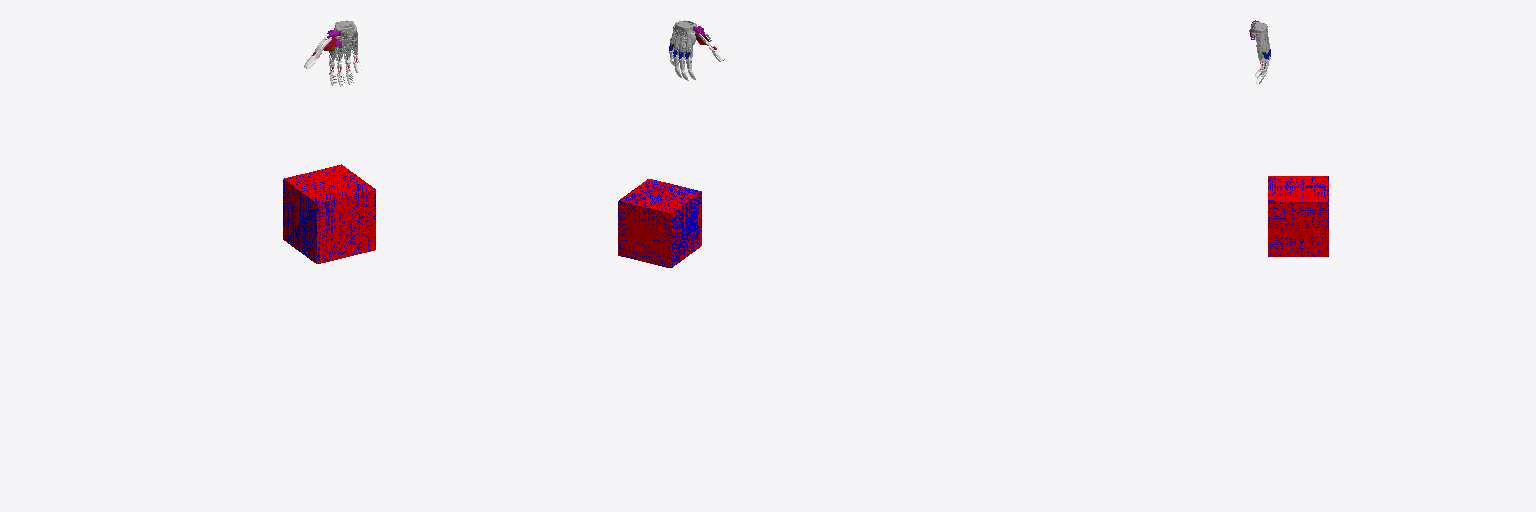
--- What the picture shows (computed from the rendered views, not written in the file) ---
Views: 3 orthographic renders of the robot side by side, from view 1: azimuth 30°, elevation 25°; view 2: azimuth 150°, elevation 25°; view 3: azimuth 270°, elevation 25°.
Robot: covvi_hand_right — 87 links, 86 joints (32 revolute, 54 fixed); root link __base_link; default pose: joints at zero except 8 at the middle of their limits (, +8 more).
Links seen in each view (by area): view 1: __base_link, _base_link, base_link; view 2: __base_link, _base_link, base_link; view 3: __base_link, _base_link.
Boxes of the visible links, <box> form: __base_link: <box>283,164,375,263</box>; _base_link: <box>283,165,375,263</box>; base_link: <box>330,20,357,59</box>; __base_link: <box>618,179,701,267</box>; _base_link: <box>618,179,701,267</box>; base_link: <box>670,20,696,60</box>; __base_link: <box>1268,176,1328,256</box>; _base_link: <box>1268,176,1328,256</box>.
Bounding box of the posed robot: 7.63 × 2.4 × 8.02 m (x, y, z).
27 mesh visuals loaded from 27 distinct referenced files (27 binary STL).

robot.urdf — covvi_hand_right:
<?xml version="1.0" encoding="utf-8"?>
<robot name="covvi_hand_right">

    <link name="__base_link">
        <visual>
            <origin xyz="0 0 0" rpy="0 0 0"/>
            <geometry><box size="1 1 1"/></geometry>
            <material name="r48384"><color rgba="1 0 0 0"/></material>
        </visual>
        <inertial>
            <mass value="1"/>
            <inertia ixx="1.0" ixy="0.0" ixz="0.0" iyy="1.0" iyz="0.0" izz="1.0"/>
        </inertial>
    </link>

    <link name="_base_link">
        <visual>
            <origin xyz="0 0 0" rpy="0 0 0"/>
            <geometry><box size="1 1 1"/></geometry>
            <material name="r81841"><color rgba="0 0 1 0"/></material>
        </visual>
        <inertial>
            <mass value="1"/>
            <inertia ixx="1.0" ixy="0.0" ixz="0.0" iyy="1.0" iyz="0.0" izz="1.0"/>
        </inertial>
    </link>

    <joint name="__joint_base_link" type="fixed">
        <origin xyz="0 0 0" rpy="1.5707963267948966 3.141592653589793 0.0"/>
        <parent link="__base_link"/>
        <child link="_base_link"/>
        <axis xyz="0 0 1"/>
    </joint>

    <link name="base_link">
        <visual>
            <origin xyz="0.0 0.0 0.0" rpy="0 0 0"/>
            <geometry><mesh filename="package://hand_pack/urdf/linear_meshes/right_base_link.STL" scale="0.00625 0.00625 0.00625"/></geometry>
            <material name=""><color rgba="0.7 0.7 0.7 1.0"/></material>
        </visual>
        <inertial>
            <mass value="0"/>
            <inertia ixx="0.0" ixy="0.0" ixz="0.0" iyy="0.0" iyz="0.0" izz="0.0"/>
        </inertial>
    </link>

    <joint name="_joint_base_link" type="fixed">
        <origin xyz="0.10717067867517471 -3.3973965644836426 0.6303038001060486" rpy="0 0 0"/>
        <parent link="_base_link"/>
        <child link="base_link"/>
        <axis xyz="0 0 1"/>
    </joint>

        <link name="Thumb_driver_link">
        <visual>
            <origin xyz="0 0 0" rpy="0 0 0"/>
            <geometry><box size="0 0 0"/></geometry>
            <material name="r37082"><color rgba="0 0 0 0"/></material>
        </visual>
        <inertial>
            <mass value="1"/>
            <inertia ixx="1.0" ixy="0.0" ixz="0.0" iyy="1.0" iyz="0.0" izz="1.0"/>
        </inertial>
    </link>
    <joint name="Thumb" type="revolute">
        <origin xyz="0 0 0"/><parent link="base_link"/><child link="Thumb_driver_link"/><axis xyz="0 0 1"/>
        <limit lower="0.00000000000000000000" upper="1.00000000000000000000" effort="0" velocity="0"/>
    </joint>
    <link name="Index_driver_link">
        <visual>
            <origin xyz="0 0 0" rpy="0 0 0"/>
            <geometry><box size="0 0 0"/></geometry>
            <material name="r47461"><color rgba="0 0 0 0"/></material>
        </visual>
        <inertial>
            <mass value="1"/>
            <inertia ixx="1.0" ixy="0.0" ixz="0.0" iyy="1.0" iyz="0.0" izz="1.0"/>
        </inertial>
    </link>
    <joint name="Index" type="revolute">
        <origin xyz="0 0 0"/><parent link="base_link"/><child link="Index_driver_link"/><axis xyz="0 0 1"/>
        <limit lower="0.00000000000000000000" upper="1.00000000000000000000" effort="0" velocity="0"/>
    </joint>
    <link name="Middle_driver_link">
        <visual>
            <origin xyz="0 0 0" rpy="0 0 0"/>
            <geometry><box size="0 0 0"/></geometry>
            <material name="r7722"><color rgba="0 0 0 0"/></material>
        </visual>
        <inertial>
            <mass value="1"/>
            <inertia ixx="1.0" ixy="0.0" ixz="0.0" iyy="1.0" iyz="0.0" izz="1.0"/>
        </inertial>
    </link>
    <joint name="Middle" type="revolute">
        <origin xyz="0 0 0"/><parent link="base_link"/><child link="Middle_driver_link"/><axis xyz="0 0 1"/>
        <limit lower="0.00000000000000000000" upper="1.00000000000000000000" effort="0" velocity="0"/>
    </joint>
    <link name="Ring_driver_link">
        <visual>
            <origin xyz="0 0 0" rpy="0 0 0"/>
            <geometry><box size="0 0 0"/></geometry>
            <material name="r66101"><color rgba="0 0 0 0"/></material>
        </visual>
        <inertial>
            <mass value="1"/>
            <inertia ixx="1.0" ixy="0.0" ixz="0.0" iyy="1.0" iyz="0.0" izz="1.0"/>
        </inertial>
    </link>
    <joint name="Ring" type="revolute">
        <origin xyz="0 0 0"/><parent link="base_link"/><child link="Ring_driver_link"/><axis xyz="0 0 1"/>
        <limit lower="0.00000000000000000000" upper="1.00000000000000000000" effort="0" velocity="0"/>
    </joint>
    <link name="Little_driver_link">
        <visual>
            <origin xyz="0 0 0" rpy="0 0 0"/>
            <geometry><box size="0 0 0"/></geometry>
            <material name="r58325"><color rgba="0 0 0 0"/></material>
        </visual>
        <inertial>
            <mass value="1"/>
            <inertia ixx="1.0" ixy="0.0" ixz="0.0" iyy="1.0" iyz="0.0" izz="1.0"/>
        </inertial>
    </link>
    <joint name="Little" type="revolute">
        <origin xyz="0 0 0"/><parent link="base_link"/><child link="Little_driver_link"/><axis xyz="0 0 1"/>
        <limit lower="0.00000000000000000000" upper="1.00000000000000000000" effort="0" velocity="0"/>
    </joint>
    <link name="Rotate_driver_link">
        <visual>
            <origin xyz="0 0 0" rpy="0 0 0"/>
            <geometry><box size="0 0 0"/></geometry>
            <material name="r13443"><color rgba="0 0 0 0"/></material>
        </visual>
        <inertial>
            <mass value="1"/>
            <inertia ixx="1.0" ixy="0.0" ixz="0.0" iyy="1.0" iyz="0.0" izz="1.0"/>
        </inertial>
    </link>
    <joint name="Rotate" type="revolute">
        <origin xyz="0 0 0"/><parent link="base_link"/><child link="Rotate_driver_link"/><axis xyz="0 0 1"/>
        <limit lower="0.00000000000000000000" upper="1.00000000000000000000" effort="0" velocity="0"/>
    </joint>

        <link name="lisa">
        <visual>
            <origin xyz="0.0 0.0 0.0" rpy="0 0 0"/>
            <geometry><mesh filename="package://hand_pack/urdf/linear_meshes/right_lisa.STL" scale="0.00625 0.00625 0.00625"/></geometry>
            <material name=""><color rgba="0.7 0.7 0.1 1.0"/></material>
        </visual>
        <inertial>
            <mass value="0"/>
            <inertia ixx="0.0" ixy="0.0" ixz="0.0" iyy="0.0" iyz="0.0" izz="0.0"/>
        </inertial>
    </link>
        <link name="_lisa_l0">
        <visual>
            <origin xyz="0 0 0" rpy="0 0 0"/>
            <geometry><box size="0 0 0"/></geometry>
            <material name=""><color rgba="0 0 0 0"/></material>
        </visual>
        <inertial>
            <mass value="0"/>
            <inertia ixx="0.0" ixy="0.0" ixz="0.0" iyy="0.0" iyz="0.0" izz="0.0"/>
        </inertial>
    </link>

    <joint name="_lisa_j_input_joint" type="fixed">
        <origin xyz="0.6649580028042494 1.243265013263121 0.7747941474098129" rpy="-0.00000001490116097180 0 0"/>
        <parent link="base_link"/>
        <axis xyz="8.166136313026937e-09 0.9999999999999999 1.300658039224663e-08"/>
        <child link="_lisa_l0"/>
    </joint>

    
    <link name="_lisa_l1">
        <visual>
            <origin xyz="0 0 -0.00000000000000000000" rpy="0 0 -0.00000001490116097180"/>
            <geometry><box size="0 0 0"/></geometry>
            <material name="r48572"><color rgba="0 0 0 0"/></material>
        </visual>
        <inertial>
            <mass value="1"/>
            <inertia ixx="1.0" ixy="0.0" ixz="0.0" iyy="1.0" iyz="0.0" izz="1.0"/>
        </inertial>
    </link>
    <joint name="_lisa_j01" type="revolute">
        <origin xyz="0 0 0.00000000000000000000" rpy="0 0 0"/>
        <parent link="_lisa_l0"/>
        <child link="_lisa_l1"/>
        <axis xyz="8.166136313026937e-09 0.9999999999999999 1.300658039224663e-08"/>
        <mimic joint="Rotate" multiplier="1.07337741974876732520" offset="0.00000001490116097180"/>
        <limit lower="0.00000001490116097180" upper="1.07337743464992829701" effort="0" velocity="0"/>
    </joint>


    <joint name="_lisa_j_lisa" type="fixed">
        <origin xyz="-0.6649580028042494 -1.243265013263121 -0.7747941474098129" rpy="-0.00000001490116097180 0 0"/>
        <parent link="_lisa_l1"/>
        <child link="lisa"/>
    </joint>
    <link name="thumb_chassis">
        <visual>
            <origin xyz="0.0 0.0 0.0" rpy="0 0 0"/>
            <geometry><mesh filename="package://hand_pack/urdf/linear_meshes/right_thumb_chassis.STL" scale="0.00625 0.00625 0.00625"/></geometry>
            <material name=""><color rgba="0.7 0.1 0.7 1.0"/></material>
        </visual>
        <inertial>
            <mass value="0"/>
            <inertia ixx="0.0" ixy="0.0" ixz="0.0" iyy="0.0" iyz="0.0" izz="0.0"/>
        </inertial>
    </link>
        <link name="_thumb_chassis_l0">
        <visual>
            <origin xyz="0 0 0" rpy="0 0 0"/>
            <geometry><box size="0 0 0"/></geometry>
            <material name=""><color rgba="0 0 0 0"/></material>
        </visual>
        <inertial>
            <mass value="0"/>
            <inertia ixx="0.0" ixy="0.0" ixz="0.0" iyy="0.0" iyz="0.0" izz="0.0"/>
        </inertial>
    </link>

    <joint name="_thumb_chassis_j_input_joint" type="fixed">
        <origin xyz="1.514903298568658 1.432445559291959 0.7844313794953435" rpy="-0.00000002107342389479 0 0"/>
        <parent link="base_link"/>
        <axis xyz="-1.0039121702977482e-08 -0.9999999999999999 1.8777992879094288e-08"/>
        <child link="_thumb_chassis_l0"/>
    </joint>

    
    <link name="_thumb_chassis_l1">
        <visual>
            <origin xyz="0 0 -0.00000000000000000000" rpy="0 0 -0.00000002107342389479"/>
            <geometry><box size="0 0 0"/></geometry>
            <material name="r29002"><color rgba="0 0 0 0"/></material>
        </visual>
        <inertial>
            <mass value="1"/>
            <inertia ixx="1.0" ixy="0.0" ixz="0.0" iyy="1.0" iyz="0.0" izz="1.0"/>
        </inertial>
    </link>
    <joint name="_thumb_chassis_j01" type="revolute">
        <origin xyz="0 0 0.00000000000000000000" rpy="0 0 0"/>
        <parent link="_thumb_chassis_l0"/>
        <child link="_thumb_chassis_l1"/>
        <axis xyz="-1.0039121702977482e-08 -0.9999999999999999 1.8777992879094288e-08"/>
        <mimic joint="Rotate" multiplier="1.53339618284689227501" offset="0.00000002107342389479"/>
        <limit lower="0.00000002107342389479" upper="1.53339620392031616980" effort="0" velocity="0"/>
    </joint>


    <joint name="_thumb_chassis_j_thumb_chassis" type="fixed">
        <origin xyz="-1.514903298568658 -1.432445559291959 -0.7844313794953435" rpy="-0.00000002107342389479 0 0"/>
        <parent link="_thumb_chassis_l1"/>
        <child link="thumb_chassis"/>
    </joint>
    <link name="thumb_proximal">
        <visual>
            <origin xyz="0.0 0.0 0.0" rpy="0 0 0"/>
            <geometry><mesh filename="package://hand_pack/urdf/linear_meshes/right_thumb_proximal.STL" scale="0.00625 0.00625 0.00625"/></geometry>
            <material name=""><color rgba="1.0 1.0 1.0 1.0"/></material>
        </visual>
        <inertial>
            <mass value="0"/>
            <inertia ixx="0.0" ixy="0.0" ixz="0.0" iyy="0.0" iyz="0.0" izz="0.0"/>
        </inertial>
    </link>
        <link name="_thumb_proximal_l0">
        <visual>
            <origin xyz="0 0 0" rpy="0 0 0"/>
            <geometry><box size="0 0 0"/></geometry>
            <material name=""><color rgba="0 0 0 0"/></material>
        </visual>
        <inertial>
            <mass value="0"/>
            <inertia ixx="0.0" ixy="0.0" ixz="0.0" iyy="0.0" iyz="0.0" izz="0.0"/>
        </inertial>
    </link>

    <joint name="_thumb_proximal_j_input_joint" type="fixed">
        <origin xyz="2.8720356292446443 1.353914565668949 0.6504721331635288" rpy="0.00000000000000016653 0 0"/>
        <parent link="thumb_chassis"/>
        <axis xyz="0.14866818156281958 -0.1305261869683429 0.9802350158540093"/>
        <child link="_thumb_proximal_l0"/>
    </joint>

    
    <link name="_thumb_proximal_l1">
        <visual>
            <origin xyz="0 0 -0.00000000000000000000" rpy="0 0 0.00000000000000016653"/>
            <geometry><box size="0 0 0"/></geometry>
            <material name="r67118"><color rgba="0 0 0 0"/></material>
        </visual>
        <inertial>
            <mass value="1"/>
            <inertia ixx="1.0" ixy="0.0" ixz="0.0" iyy="1.0" iyz="0.0" izz="1.0"/>
        </inertial>
    </link>
    <joint name="_thumb_proximal_j01" type="revolute">
        <origin xyz="0 0 0.00000000000000000000" rpy="0 0 0"/>
        <parent link="_thumb_proximal_l0"/>
        <child link="_thumb_proximal_l1"/>
        <axis xyz="0.14866818156281958 -0.1305261869683429 0.9802350158540093"/>
        <mimic joint="Thumb" multiplier="0.72022188617106031039" offset="-0.00000000000000016653"/>
        <limit lower="-0.00000000000000016653" upper="0.72022188617106019937" effort="0" velocity="0"/>
    </joint>


    <joint name="_thumb_proximal_j_thumb_proximal" type="fixed">
        <origin xyz="-2.8720356292446443 -1.353914565668949 -0.6504721331635288" rpy="0.00000000000000016653 0 0"/>
        <parent link="_thumb_proximal_l1"/>
        <child link="thumb_proximal"/>
    </joint>
    <link name="thumb_distal">
        <visual>
            <origin xyz="0.0 0.0 0.0" rpy="0 0 0"/>
            <geometry><mesh filename="package://hand_pack/urdf/linear_meshes/right_thumb_distal.STL" scale="0.00625 0.00625 0.00625"/></geometry>
            <material name=""><color rgba="1.0 1.0 1.0 1.0"/></material>
        </visual>
        <inertial>
            <mass value="0"/>
            <inertia ixx="0.0" ixy="0.0" ixz="0.0" iyy="0.0" iyz="0.0" izz="0.0"/>
        </inertial>
    </link>
        <link name="_thumb_distal_l0">
        <visual>
            <origin xyz="0 0 0" rpy="0 0 0"/>
            <geometry><box size="0 0 0"/></geometry>
            <material name=""><color rgba="0 0 0 0"/></material>
        </visual>
        <inertial>
            <mass value="0"/>
            <inertia ixx="0.0" ixy="0.0" ixz="0.0" iyy="0.0" iyz="0.0" izz="0.0"/>
        </inertial>
    </link>

    <joint name="_thumb_distal_j_input_joint" type="fixed">
        <origin xyz="5.380329672338689 4.204299673061814 0.6377162617521437" rpy="0.00000000000000033307 0 0"/>
        <parent link="thumb_proximal"/>
        <axis xyz="0.1486681537240236 -0.13052619107234176 0.9802350195297231"/>
        <child link="_thumb_distal_l0"/>
    </joint>

    
    <link name="_thumb_distal_l1">
        <visual>
            <origin xyz="0 0 -0.00000000000000000000" rpy="0 0 0.00000000000000033307"/>
            <geometry><box size="0 0 0"/></geometry>
            <material name="r72482"><color rgba="0 0 0 0"/></material>
        </visual>
        <inertial>
            <mass value="1"/>
            <inertia ixx="1.0" ixy="0.0" ixz="0.0" iyy="1.0" iyz="0.0" izz="1.0"/>
        </inertial>
    </link>
    <joint name="_thumb_distal_j01" type="revolute">
        <origin xyz="0 0 0.00000000000000000000" rpy="0 0 0"/>
        <parent link="_thumb_distal_l0"/>
        <child link="_thumb_distal_l1"/>
        <axis xyz="0.1486681537240236 -0.13052619107234176 0.9802350195297231"/>
        <mimic joint="Thumb" multiplier="1.06686018440504470917" offset="-0.00000000000000033307"/>
        <limit lower="-0.00000000000000033307" upper="1.06686018440504426508" effort="0" velocity="0"/>
    </joint>


    <joint name="_thumb_distal_j_thumb_distal" type="fixed">
        <origin xyz="-5.380329672338689 -4.204299673061814 -0.6377162617521437" rpy="0.00000000000000033307 0 0"/>
        <parent link="_thumb_distal_l1"/>
        <child link="thumb_distal"/>
    </joint>
    <link name="thumb_link">
        <visual>
            <origin xyz="0.0 0.0 0.0" rpy="0 0 0"/>
            <geometry><mesh filename="package://hand_pack/urdf/linear_meshes/right_thumb_link.STL" scale="0.00625 0.00625 0.00625"/></geometry>
            <material name=""><color rgba="0.7 0.1 0.1 1.0"/></material>
        </visual>
        <inertial>
            <mass value="0"/>
            <inertia ixx="0.0" ixy="0.0" ixz="0.0" iyy="0.0" iyz="0.0" izz="0.0"/>
        </inertial>
    </link>
        <link name="_thumb_link_l0">
        <visual>
            <origin xyz="0 0 0" rpy="0 0 0"/>
            <geometry><box size="0 0 0"/></geometry>
            <material name=""><color rgba="0 0 0 0"/></material>
        </visual>
        <inertial>
            <mass value="0"/>
            <inertia ixx="0.0" ixy="0.0" ixz="0.0" iyy="0.0" iyz="0.0" izz="0.0"/>
        </inertial>
    </link>

    <joint name="_thumb_link_j_input_joint" type="fixed">
        <origin xyz="2.3175473087185097 1.6154584748791998 0.7720019170415124" rpy="0.00000000000000016653 0 0"/>
        <parent link="thumb_chassis"/>
        <axis xyz="0.1486681500676118 -0.1305261887766519 0.9802350203899655"/>
        <child link="_thumb_link_l0"/>
    </joint>

    
    <link name="_thumb_link_l1">
        <visual>
            <origin xyz="0 0 -0.00000000000000000000" rpy="0 0 0.00000000000000016653"/>
            <geometry><box size="0 0 0"/></geometry>
            <material name="r43178"><color rgba="0 0 0 0"/></material>
        </visual>
        <inertial>
            <mass value="1"/>
            <inertia ixx="1.0" ixy="0.0" ixz="0.0" iyy="1.0" iyz="0.0" izz="1.0"/>
        </inertial>
    </link>
    <joint name="_thumb_link_j01" type="revolute">
        <origin xyz="0 0 0.00000000000000000000" rpy="0 0 0"/>
        <parent link="_thumb_link_l0"/>
        <child link="_thumb_link_l1"/>
        <axis xyz="0.1486681500676118 -0.1305261887766519 0.9802350203899655"/>
        <mimic joint="Thumb" multiplier="0.76799454671461719890" offset="-0.00000000000000016653"/>
        <limit lower="-0.00000000000000016653" upper="0.76799454671461697686" effort="0" velocity="0"/>
    </joint>


    <joint name="_thumb_link_j_thumb_link" type="fixed">
        <origin xyz="-2.3175473087185097 -1.6154584748791998 -0.7720019170415124" rpy="0.00000000000000016653 0 0"/>
        <parent link="_thumb_link_l1"/>
        <child link="thumb_link"/>
    </joint>
    <link name="thumb_follower">
        <visual>
            <origin xyz="0.0 0.0 0.0" rpy="0 0 0"/>
            <geometry><mesh filename="package://hand_pack/urdf/linear_meshes/right_thumb_follower.STL" scale="0.00625 0.00625 0.00625"/></geometry>
            <material name=""><color rgba="0.1 0.7 0.1 1.0"/></material>
        </visual>
        <inertial>
            <mass value="0"/>
            <inertia ixx="0.0" ixy="0.0" ixz="0.0" iyy="0.0" iyz="0.0" izz="0.0"/>
        </inertial>
    </link>
        <link name="_thumb_follower_l0">
        <visual>
            <origin xyz="0 0 0" rpy="0 0 0"/>
            <geometry><box size="0 0 0"/></geometry>
            <material name=""><color rgba="0 0 0 0"/></material>
        </visual>
        <inertial>
            <mass value="0"/>
            <inertia ixx="0.0" ixy="0.0" ixz="0.0" iyy="0.0" iyz="0.0" izz="0.0"/>
        </inertial>
    </link>

    <joint name="_thumb_follower_j_input_joint" type="fixed">
        <origin xyz="2.720835809921482 2.848104079083896 0.8664653479863773" rpy="0.00000000000000022204 0 0"/>
        <parent link="thumb_link"/>
        <axis xyz="-0.1486655629842887 0.13052549101972807 -0.9802355056702565"/>
        <child link="_thumb_follower_l0"/>
    </joint>

    
    <link name="_thumb_follower_l1">
        <visual>
            <origin xyz="0 0 -0.00000000000000000000" rpy="0 0 0.00000000000000022204"/>
            <geometry><box size="0 0 0"/></geometry>
            <material name="r80207"><color rgba="0 0 0 0"/></material>
        </visual>
        <inertial>
            <mass value="1"/>
            <inertia ixx="1.0" ixy="0.0" ixz="0.0" iyy="1.0" iyz="0.0" izz="1.0"/>
        </inertial>
    </link>
    <joint name="_thumb_follower_j01" type="revolute">
        <origin xyz="0 0 0.00000000000000000000" rpy="0 0 0"/>
        <parent link="_thumb_follower_l0"/>
        <child link="_thumb_follower_l1"/>
        <axis xyz="-0.1486655629842887 0.13052549101972807 -0.9802355056702565"/>
        <mimic joint="Thumb" multiplier="0.93732763826281451092" offset="-0.00000000000000022204"/>
        <limit lower="-0.00000000000000022204" upper="0.93732763826281428887" effort="0" velocity="0"/>
    </joint>


    <joint name="_thumb_follower_j_thumb_follower" type="fixed">
        <origin xyz="-2.720835809921482 -2.848104079083896 -0.8664653479863773" rpy="0.00000000000000022204 0 0"/>
        <parent link="_thumb_follower_l1"/>
        <child link="thumb_follower"/>
    </joint>
    <link name="index_proximal">
        <visual>
            <origin xyz="0.0 0.0 0.0" rpy="0 0 0"/>
            <geometry><mesh filename="package://hand_pack/urdf/linear_meshes/right_index_proximal.STL" scale="0.00625 0.00625 0.00625"/></geometry>
            <material name=""><color rgba="1.0 1.0 1.0 1.0"/></material>
        </visual>
        <inertial>
            <mass value="0"/>
            <inertia ixx="0.0" ixy="0.0" ixz="0.0" iyy="0.0" iyz="0.0" izz="0.0"/>
        </inertial>
    </link>
        <link name="_index_proximal_l0">
        <visual>
            <origin xyz="0 0 0" rpy="0 0 0"/>
            <geometry><box size="0 0 0"/></geometry>
            <material name=""><color rgba="0 0 0 0"/></material>
        </visual>
        <inertial>
            <mass value="0"/>
            <inertia ixx="0.0" ixy="0.0" ixz="0.0" iyy="0.0" iyz="0.0" izz="0.0"/>
        </inertial>
    </link>

    <joint name="_index_proximal_j_input_joint" type="fixed">
        <origin xyz="1.4438636714684971 5.709859526571508 -0.9223736237943079" rpy="-0.00000001490116086078 0 0"/>
        <parent link="base_link"/>
        <axis xyz="0.9935814517046622 -0.052307286750173175 -0.10029878653947531"/>
        <child link="_index_proximal_l0"/>
    </joint>

    
    <link name="_index_proximal_l1">
        <visual>
            <origin xyz="0 0 -0.00000000000000000000" rpy="0 0 -0.00000001490116086078"/>
            <geometry><box size="0 0 0"/></geometry>
            <material name="r69401"><color rgba="0 0 0 0"/></material>
        </visual>
        <inertial>
            <mass value="1"/>
            <inertia ixx="1.0" ixy="0.0" ixz="0.0" iyy="1.0" iyz="0.0" izz="1.0"/>
        </inertial>
    </link>
    <joint name="_index_proximal_j01" type="revolute">
        <origin xyz="0 0 0.00000000000000000000" rpy="0 0 0"/>
        <parent link="_index_proximal_l0"/>
        <child link="_index_proximal_l1"/>
        <axis xyz="0.9935814517046622 -0.052307286750173175 -0.10029878653947531"/>
        <mimic joint="Index" multiplier="1.51604339913513674887" offset="0.00000001490116086078"/>
        <limit lower="0.00000001490116086078" upper="1.51604341403629772067" effort="0" velocity="0"/>
    </joint>


    <joint name="_index_proximal_j_index_proximal" type="fixed">
        <origin xyz="-1.4438636714684971 -5.709859526571508 0.9223736237943079" rpy="-0.00000001490116086078 0 0"/>
        <parent link="_index_proximal_l1"/>
        <child link="index_proximal"/>
    </joint>
    <link name="index_distal">
        <visual>
            <origin xyz="0.0 0.0 0.0" rpy="0 0 0"/>
            <geometry><mesh filename="package://hand_pack/urdf/linear_meshes/right_index_distal.STL" scale="0.00625 0.00625 0.00625"/></geometry>
            <material name=""><color rgba="1.0 1.0 1.0 1.0"/></material>
        </visual>
        <inertial>
            <mass value="0"/>
            <inertia ixx="0.0" ixy="0.0" ixz="0.0" iyy="0.0" iyz="0.0" izz="0.0"/>
        </inertial>
    </link>
        <link name="_index_distal_l0">
        <visual>
            <origin xyz="0 0 0" rpy="0 0 0"/>
            <geometry><box size="0 0 0"/></geometry>
            <material name=""><color rgba="0 0 0 0"/></material>
        </visual>
        <inertial>
            <mass value="0"/>
            <inertia ixx="0.0" ixy="0.0" ixz="0.0" iyy="0.0" iyz="0.0" izz="0.0"/>
        </inertial>
    </link>

    <joint name="_index_distal_j_input_joint" type="fixed">
        <origin xyz="1.5070534999285634 7.578488986309617 -1.0647940483682832" rpy="-0.00000002107342395030 0 0"/>
        <parent link="index_proximal"/>
        <axis xyz="0.9935814496116296 -0.0523072979212324 -0.10029880144763517"/>
        <child link="_index_distal_l0"/>
    </joint>

    
    <link name="_index_distal_l1">
        <visual>
            <origin xyz="0 0 -0.00000000000000000000" rpy="0 0 -0.00000002107342395030"/>
            <geometry><box size="0 0 0"/></geometry>
            <material name="r61005"><color rgba="0 0 0 0"/></material>
        </visual>
        <inertial>
            <mass value="1"/>
            <inertia ixx="1.0" ixy="0.0" ixz="0.0" iyy="1.0" iyz="0.0" izz="1.0"/>
        </inertial>
    </link>
    <joint name="_index_distal_j01" type="revolute">
        <origin xyz="0 0 0.00000000000000000000" rpy="0 0 0"/>
        <parent link="_index_distal_l0"/>
        <child link="_index_distal_l1"/>
        <axis xyz="0.9935814496116296 -0.0523072979212324 -0.10029880144763517"/>
        <mimic joint="Index" multiplier="1.33574108836935590006" offset="0.00000002107342395030"/>
        <limit lower="0.00000002107342395030" upper="1.33574110944277979485" effort="0" velocity="0"/>
    </joint>


    <joint name="_index_distal_j_index_distal" type="fixed">
        <origin xyz="-1.5070534999285634 -7.578488986309617 1.0647940483682832" rpy="-0.00000002107342395030 0 0"/>
        <parent link="_index_distal_l1"/>
        <child link="index_distal"/>
    </joint>
    <link name="index_knuckle">
        <visual>
            <origin xyz="0.0 0.0 0.0" rpy="0 0 0"/>
            <geometry><mesh filename="package://hand_pack/urdf/linear_meshes/right_index_knuckle.STL" scale="0.00625 0.00625 0.00625"/></geometry>
            <material name=""><color rgba="0.1 0.1 0.7 1.0"/></material>
        </visual>
        <inertial>
            <mass value="0"/>
            <inertia ixx="0.0" ixy="0.0" ixz="0.0" iyy="0.0" iyz="0.0" izz="0.0"/>
        </inertial>
    </link>
        <link name="_index_knuckle_l0">
        <visual>
            <origin xyz="0 0 0" rpy="0 0 0"/>
            <geometry><box size="0 0 0"/></geometry>
            <material name=""><color rgba="0 0 0 0"/></material>
        </visual>
        <inertial>
            <mass value="0"/>
            <inertia ixx="0.0" ixy="0.0" ixz="0.0" iyy="0.0" iyz="0.0" izz="0.0"/>
        </inertial>
    </link>

    <joint name="_index_knuckle_j_input_joint" type="fixed">
        <origin xyz="1.366060538694307 5.324288335618494 -1.4862338867796852" rpy="-0.00000002107342400581 0 0"/>
        <parent link="index_proximal"/>
        <axis xyz="-0.9935814514632575 0.05230723732964991 0.10029881470439378"/>
        <child link="_index_knuckle_l0"/>
    </joint>

    
    <link name="_index_knuckle_l1">
        <visual>
            <origin xyz="0 0 -0.00000000000000000000" rpy="0 0 -0.00000002107342400581"/>
            <geometry><box size="0 0 0"/></geometry>
            <material name="r79316"><color rgba="0 0 0 0"/></material>
        </visual>
        <inertial>
            <mass value="1"/>
            <inertia ixx="1.0" ixy="0.0" ixz="0.0" iyy="1.0" iyz="0.0" izz="1.0"/>
        </inertial>
    </link>
    <joint name="_index_knuckle_j01" type="revolute">
        <origin xyz="0 0 0.00000000000000000000" rpy="0 0 0"/>
        <parent link="_index_knuckle_l0"/>
        <child link="_index_knuckle_l1"/>
        <axis xyz="-0.9935814514632575 0.05230723732964991 0.10029881470439378"/>
        <mimic joint="Index" multiplier="1.25181519799450313712" offset="0.00000002107342400581"/>
        <limit lower="0.00000002107342400581" upper="1.25181521906792703192" effort="0" velocity="0"/>
    </joint>


    <joint name="_index_knuckle_j_index_knuckle" type="fixed">
        <origin xyz="-1.366060538694307 -5.324288335618494 1.4862338867796852" rpy="-0.00000002107342400581 0 0"/>
        <parent link="_index_knuckle_l1"/>
        <child link="index_knuckle"/>
    </joint>
    <link name="index_follower">
        <visual>
            <origin xyz="0.0 0.0 0.0" rpy="0 0 0"/>
            <geometry><mesh filename="package://hand_pack/urdf/linear_meshes/right_index_follower.STL" scale="0.00625 0.00625 0.00625"/></geometry>
            <material name=""><color rgba="0.1 0.7 0.1 1.0"/></material>
        </visual>
        <inertial>
            <mass value="0"/>
            <inertia ixx="0.0" ixy="0.0" ixz="0.0" iyy="0.0" iyz="0.0" izz="0.0"/>
        </inertial>
    </link>
        <link name="_index_follower_l0">
        <visual>
            <origin xyz="0 0 0" rpy="0 0 0"/>
            <geometry><box size="0 0 0"/></geometry>
            <material name=""><color rgba="0 0 0 0"/></material>
        </visual>
        <inertial>
            <mass value="0"/>
            <inertia ixx="0.0" ixy="0.0" ixz="0.0" iyy="0.0" iyz="0.0" izz="0.0"/>
        </inertial>
    </link>

    <joint name="_index_follower_j_input_joint" type="fixed">
        <origin xyz="1.3289578043144759 4.198973084070179 -1.3040394900270869" rpy="0.00000000000000005551 0 0"/>
        <parent link="index_knuckle"/>
        <axis xyz="-0.9935816391717812 0.05230592427414335 0.10029763998491735"/>
        <child link="_index_follower_l0"/>
    </joint>

    
    <link name="_index_follower_l1">
        <visual>
            <origin xyz="0 0 -0.00000000000000000000" rpy="0 0 0.00000000000000005551"/>
            <geometry><box size="0 0 0"/></geometry>
            <material name="r82929"><color rgba="0 0 0 0"/></material>
        </visual>
        <inertial>
            <mass value="1"/>
            <inertia ixx="1.0" ixy="0.0" ixz="0.0" iyy="1.0" iyz="0.0" izz="1.0"/>
        </inertial>
    </link>
    <joint name="_index_follower_j01" type="revolute">
        <origin xyz="0 0 0.00000000000000000000" rpy="0 0 0"/>
        <parent link="_index_follower_l0"/>
        <child link="_index_follower_l1"/>
        <axis xyz="-0.9935816391717812 0.05230592427414335 0.10029763998491735"/>
        <mimic joint="Index" multiplier="0.26422627443923907276" offset="-0.00000000000000005551"/>
        <limit lower="-0.00000000000000005551" upper="0.26422627443923901724" effort="0" velocity="0"/>
    </joint>


    <joint name="_index_follower_j_index_follower" type="fixed">
        <origin xyz="-1.3289578043144759 -4.198973084070179 1.3040394900270869" rpy="0.00000000000000005551 0 0"/>
        <parent link="_index_follower_l1"/>
        <child link="index_follower"/>
    </joint>
    <link name="index_link">
        <visual>
            <origin xyz="0.0 0.0 0.0" rpy="0 0 0"/>
            <geometry><mesh filename="package://hand_pack/urdf/linear_meshes/right_index_link.STL" scale="0.00625 0.00625 0.00625"/></geometry>
            <material name=""><color rgba="0.7 0.1 0.1 1.0"/></material>
        </visual>
        <inertial>
            <mass value="0"/>
            <inertia ixx="0.0" ixy="0.0" ixz="0.0" iyy="0.0" iyz="0.0" izz="0.0"/>
        </inertial>
    </link>
        <link name="_index_link_l0">
        <visual>
            <origin xyz="0 0 0" rpy="0 0 0"/>
            <geometry><box size="0 0 0"/></geometry>
            <material name=""><color rgba="0 0 0 0"/></material>
        </visual>
        <inertial>
            <mass value="0"/>
            <inertia ixx="0.0" ixy="0.0" ixz="0.0" iyy="0.0" iyz="0.0" izz="0.0"/>
        </inertial>
    </link>

    <joint name="_index_link_j_input_joint" type="fixed">
        <origin xyz="1.3943596383310624 5.7976159675856795 -1.1863715383108244" rpy="0.00000000000000033307 0 0"/>
        <parent link="base_link"/>
        <axis xyz="0.9935814462116063 -0.05230730452290644 -0.10029883168612273"/>
        <child link="_index_link_l0"/>
    </joint>

    
    <link name="_index_link_l1">
        <visual>
            <origin xyz="0 0 -0.00000000000000000000" rpy="0 0 0.00000000000000033307"/>
            <geometry><box size="0 0 0"/></geometry>
            <material name="r18117"><color rgba="0 0 0 0"/></material>
        </visual>
        <inertial>
            <mass value="1"/>
            <inertia ixx="1.0" ixy="0.0" ixz="0.0" iyy="1.0" iyz="0.0" izz="1.0"/>
        </inertial>
    </link>
    <joint name="_index_link_j01" type="revolute">
        <origin xyz="0 0 0.00000000000000000000" rpy="0 0 0"/>
        <parent link="_index_link_l0"/>
        <child link="_index_link_l1"/>
        <axis xyz="0.9935814462116063 -0.05230730452290644 -0.10029883168612273"/>
        <mimic joint="Index" multiplier="1.33574038782547521720" offset="-0.00000000000000033307"/>
        <limit lower="-0.00000000000000033307" upper="1.33574038782547499515" effort="0" velocity="0"/>
    </joint>


    <joint name="_index_link_j_index_link" type="fixed">
        <origin xyz="-1.3943596383310624 -5.7976159675856795 1.1863715383108244" rpy="0.00000000000000033307 0 0"/>
        <parent link="_index_link_l1"/>
        <child link="index_link"/>
    </joint>
    <link name="middle_proximal">
        <visual>
            <origin xyz="0.0 0.0 0.0" rpy="0 0 0"/>
            <geometry><mesh filename="package://hand_pack/urdf/linear_meshes/right_middle_proximal.STL" scale="0.00625 0.00625 0.00625"/></geometry>
            <material name=""><color rgba="1.0 1.0 1.0 1.0"/></material>
        </visual>
        <inertial>
            <mass value="0"/>
            <inertia ixx="0.0" ixy="0.0" ixz="0.0" iyy="0.0" iyz="0.0" izz="0.0"/>
        </inertial>
    </link>
        <link name="_middle_proximal_l0">
        <visual>
            <origin xyz="0 0 0" rpy="0 0 0"/>
            <geometry><box size="0 0 0"/></geometry>
            <material name=""><color rgba="0 0 0 0"/></material>
        </visual>
        <inertial>
            <mass value="0"/>
            <inertia ixx="0.0" ixy="0.0" ixz="0.0" iyy="0.0" iyz="0.0" izz="0.0"/>
        </inertial>
    </link>

    <joint name="_middle_proximal_j_input_joint" type="fixed">
        <origin xyz="0.20973618604014632 5.898534205707262 -0.9712659363241443" rpy="0.00000000000000055511 0 0"/>
        <parent link="base_link"/>
        <axis xyz="0.9910685918607293 1.8063346067449371e-09 -0.13335308855512615"/>
        <child link="_middle_proximal_l0"/>
    </joint>

    
    <link name="_middle_proximal_l1">
        <visual>
            <origin xyz="0 0 -0.00000000000000000000" rpy="0 0 0.00000000000000055511"/>
            <geometry><box size="0 0 0"/></geometry>
            <material name="r35313"><color rgba="0 0 0 0"/></material>
        </visual>
        <inertial>
            <mass value="1"/>
            <inertia ixx="1.0" ixy="0.0" ixz="0.0" iyy="1.0" iyz="0.0" izz="1.0"/>
        </inertial>
    </link>
    <joint name="_middle_proximal_j01" type="revolute">
        <origin xyz="0 0 0.00000000000000000000" rpy="0 0 0"/>
        <parent link="_middle_proximal_l0"/>
        <child link="_middle_proximal_l1"/>
        <axis xyz="0.9910685918607293 1.8063346067449371e-09 -0.13335308855512615"/>
        <mimic joint="Middle" multiplier="1.51604368978713033300" offset="-0.00000000000000055511"/>
        <limit lower="-0.00000000000000055511" upper="1.51604368978712988891" effort="0" velocity="0"/>
    </joint>


    <joint name="_middle_proximal_j_middle_proximal" type="fixed">
        <origin xyz="-0.20973618604014632 -5.898534205707262 0.9712659363241443" rpy="0.00000000000000055511 0 0"/>
        <parent link="_middle_proximal_l1"/>
        <child link="middle_proximal"/>
    </joint>
    <link name="middle_distal">
        <visual>
            <origin xyz="0.0 0.0 0.0" rpy="0 0 0"/>
            <geometry><mesh filename="package://hand_pack/urdf/linear_meshes/right_middle_distal.STL" scale="0.00625 0.00625 0.00625"/></geometry>
            <material name=""><color rgba="1.0 1.0 1.0 1.0"/></material>
        </visual>
        <inertial>
            <mass value="0"/>
            <inertia ixx="0.0" ixy="0.0" ixz="0.0" iyy="0.0" iyz="0.0" izz="0.0"/>
        </inertial>
    </link>
        <link name="_middle_distal_l0">
        <visual>
            <origin xyz="0 0 0" rpy="0 0 0"/>
            <geometry><box size="0 0 0"/></geometry>
            <material name=""><color rgba="0 0 0 0"/></material>
        </visual>
        <inertial>
            <mass value="0"/>
            <inertia ixx="0.0" ixy="0.0" ixz="0.0" iyy="0.0" iyz="0.0" izz="0.0"/>
        </inertial>
    </link>

    <joint name="_middle_distal_j_input_joint" type="fixed">
        <origin xyz="0.19688874055412953 8.022176691106141 -1.0461525552984252" rpy="-0.00000002107342389479 0 0"/>
        <parent link="middle_proximal"/>
        <axis xyz="0.9910685909316314 -1.689482686870114e-09 -0.13335309546010102"/>
        <child link="_middle_distal_l0"/>
    </joint>

    
    <link name="_middle_distal_l1">
        <visual>
            <origin xyz="0 0 -0.00000000000000000000" rpy="0 0 -0.00000002107342389479"/>
            <geometry><box size="0 0 0"/></geometry>
            <material name="r17832"><color rgba="0 0 0 0"/></material>
        </visual>
        <inertial>
            <mass value="1"/>
            <inertia ixx="1.0" ixy="0.0" ixz="0.0" iyy="1.0" iyz="0.0" izz="1.0"/>
        </inertial>
    </link>
    <joint name="_middle_distal_j01" type="revolute">
        <origin xyz="0 0 0.00000000000000000000" rpy="0 0 0"/>
        <parent link="_middle_distal_l0"/>
        <child link="_middle_distal_l1"/>
        <axis xyz="0.9910685909316314 -1.689482686870114e-09 -0.13335309546010102"/>
        <mimic joint="Middle" multiplier="1.34986011532341310115" offset="0.00000002107342389479"/>
        <limit lower="0.00000002107342389479" upper="1.34986013639683699594" effort="0" velocity="0"/>
    </joint>


    <joint name="_middle_distal_j_middle_distal" type="fixed">
        <origin xyz="-0.19688874055412953 -8.022176691106141 1.0461525552984252" rpy="-0.00000002107342389479 0 0"/>
        <parent link="_middle_distal_l1"/>
        <child link="middle_distal"/>
    </joint>
    <link name="middle_knuckle">
        <visual>
            <origin xyz="0.0 0.0 0.0" rpy="0 0 0"/>
            <geometry><mesh filename="package://hand_pack/urdf/linear_meshes/right_middle_knuckle.STL" scale="0.00625 0.00625 0.00625"/></geometry>
            <material name=""><color rgba="0.1 0.1 0.7 1.0"/></material>
        </visual>
        <inertial>
            <mass value="0"/>
            <inertia ixx="0.0" ixy="0.0" ixz="0.0" iyy="0.0" iyz="0.0" izz="0.0"/>
        </inertial>
    </link>
        <link name="_middle_knuckle_l0">
        <visual>
            <origin xyz="0 0 0" rpy="0 0 0"/>
            <geometry><box size="0 0 0"/></geometry>
            <material name=""><color rgba="0 0 0 0"/></material>
        </visual>
        <inertial>
            <mass value="0"/>
            <inertia ixx="0.0" ixy="0.0" ixz="0.0" iyy="0.0" iyz="0.0" izz="0.0"/>
        </inertial>
    </link>

    <joint name="_middle_knuckle_j_input_joint" type="fixed">
        <origin xyz="0.1327026701136127 5.513391010636881 -1.535525341148929" rpy="0.00000000000000022204 0 0"/>
        <parent link="middle_proximal"/>
        <axis xyz="-0.9910685921320656 -5.1727278766516505e-09 0.13335308653857816"/>
        <child link="_middle_knuckle_l0"/>
    </joint>

    
    <link name="_middle_knuckle_l1">
        <visual>
            <origin xyz="0 0 -0.00000000000000000000" rpy="0 0 0.00000000000000022204"/>
            <geometry><box size="0 0 0"/></geometry>
            <material name="r26979"><color rgba="0 0 0 0"/></material>
        </visual>
        <inertial>
            <mass value="1"/>
            <inertia ixx="1.0" ixy="0.0" ixz="0.0" iyy="1.0" iyz="0.0" izz="1.0"/>
        </inertial>
    </link>
    <joint name="_middle_knuckle_j01" type="revolute">
        <origin xyz="0 0 0.00000000000000000000" rpy="0 0 0"/>
        <parent link="_middle_knuckle_l0"/>
        <child link="_middle_knuckle_l1"/>
        <axis xyz="-0.9910685921320656 -5.1727278766516505e-09 0.13335308653857816"/>
        <mimic joint="Middle" multiplier="1.25181499257524908586" offset="-0.00000000000000022204"/>
        <limit lower="-0.00000000000000022204" upper="1.25181499257524886382" effort="0" velocity="0"/>
    </joint>


    <joint name="_middle_knuckle_j_middle_knuckle" type="fixed">
        <origin xyz="-0.1327026701136127 -5.513391010636881 1.535525341148929" rpy="0.00000000000000022204 0 0"/>
        <parent link="_middle_knuckle_l1"/>
        <child link="middle_knuckle"/>
    </joint>
    <link name="middle_follower">
        <visual>
            <origin xyz="0.0 0.0 0.0" rpy="0 0 0"/>
            <geometry><mesh filename="package://hand_pack/urdf/linear_meshes/right_middle_follower.STL" scale="0.00625 0.00625 0.00625"/></geometry>
            <material name=""><color rgba="0.1 0.7 0.1 1.0"/></material>
        </visual>
        <inertial>
            <mass value="0"/>
            <inertia ixx="0.0" ixy="0.0" ixz="0.0" iyy="0.0" iyz="0.0" izz="0.0"/>
        </inertial>
    </link>
        <link name="_middle_follower_l0">
        <visual>
            <origin xyz="0 0 0" rpy="0 0 0"/>
            <geometry><box size="0 0 0"/></geometry>
            <material name=""><color rgba="0 0 0 0"/></material>
        </visual>
        <inertial>
            <mass value="0"/>
            <inertia ixx="0.0" ixy="0.0" ixz="0.0" iyy="0.0" iyz="0.0" izz="0.0"/>
        </inertial>
    </link>

    <joint name="_middle_follower_j_input_joint" type="fixed">
        <origin xyz="0.15980891875989833 4.386421938486642 -1.361995902128741" rpy="0.00000000000000005551 0 0"/>
        <parent link="middle_knuckle"/>
        <axis xyz="-0.9910686221283496 -3.493623730798563e-07 0.13335286360814524"/>
        <child link="_middle_follower_l0"/>
    </joint>

    
    <link name="_middle_follower_l1">
        <visual>
            <origin xyz="0 0 -0.00000000000000000000" rpy="0 0 0.00000000000000005551"/>
            <geometry><box size="0 0 0"/></geometry>
            <material name="r16493"><color rgba="0 0 0 0"/></material>
        </visual>
        <inertial>
            <mass value="1"/>
            <inertia ixx="1.0" ixy="0.0" ixz="0.0" iyy="1.0" iyz="0.0" izz="1.0"/>
        </inertial>
    </link>
    <joint name="_middle_follower_j01" type="revolute">
        <origin xyz="0 0 0.00000000000000000000" rpy="0 0 0"/>
        <parent link="_middle_follower_l0"/>
        <child link="_middle_follower_l1"/>
        <axis xyz="-0.9910686221283496 -3.493623730798563e-07 0.13335286360814524"/>
        <mimic joint="Middle" multiplier="0.26422641895880322194" offset="-0.00000000000000005551"/>
        <limit lower="-0.00000000000000005551" upper="0.26422641895880316643" effort="0" velocity="0"/>
    </joint>


    <joint name="_middle_follower_j_middle_follower" type="fixed">
        <origin xyz="-0.15980891875989833 -4.386421938486642 1.361995902128741" rpy="0.00000000000000005551 0 0"/>
        <parent link="_middle_follower_l1"/>
        <child link="middle_follower"/>
    </joint>
    <link name="middle_link">
        <visual>
            <origin xyz="0.0 0.0 0.0" rpy="0 0 0"/>
            <geometry><mesh filename="package://hand_pack/urdf/linear_meshes/right_middle_link.STL" scale="0.00625 0.00625 0.00625"/></geometry>
            <material name=""><color rgba="0.7 0.1 0.1 1.0"/></material>
        </visual>
        <inertial>
            <mass value="0"/>
            <inertia ixx="0.0" ixy="0.0" ixz="0.0" iyy="0.0" iyz="0.0" izz="0.0"/>
        </inertial>
    </link>
        <link name="_middle_link_l0">
        <visual>
            <origin xyz="0 0 0" rpy="0 0 0"/>
            <geometry><box size="0 0 0"/></geometry>
            <material name=""><color rgba="0 0 0 0"/></material>
        </visual>
        <inertial>
            <mass value="0"/>
            <inertia ixx="0.0" ixy="0.0" ixz="0.0" iyy="0.0" iyz="0.0" izz="0.0"/>
        </inertial>
    </link>

    <joint name="_middle_link_j_input_joint" type="fixed">
        <origin xyz="0.1485688418916027 5.985445071198181 -1.232930729247692" rpy="0.00000000000000027756 0 0"/>
        <parent link="base_link"/>
        <axis xyz="0.991068591048481 -2.638530424585682e-09 -0.13335309459168482"/>
        <child link="_middle_link_l0"/>
    </joint>

    
    <link name="_middle_link_l1">
        <visual>
            <origin xyz="0 0 -0.00000000000000000000" rpy="0 0 0.00000000000000027756"/>
            <geometry><box size="0 0 0"/></geometry>
            <material name="r5837"><color rgba="0 0 0 0"/></material>
        </visual>
        <inertial>
            <mass value="1"/>
            <inertia ixx="1.0" ixy="0.0" ixz="0.0" iyy="1.0" iyz="0.0" izz="1.0"/>
        </inertial>
    </link>
    <joint name="_middle_link_j01" type="revolute">
        <origin xyz="0 0 0.00000000000000000000" rpy="0 0 0"/>
        <parent link="_middle_link_l0"/>
        <child link="_middle_link_l1"/>
        <axis xyz="0.991068591048481 -2.638530424585682e-09 -0.13335309459168482"/>
        <mimic joint="Middle" multiplier="1.34986028913700661924" offset="-0.00000000000000027756"/>
        <limit lower="-0.00000000000000027756" upper="1.34986028913700639720" effort="0" velocity="0"/>
    </joint>


    <joint name="_middle_link_j_middle_link" type="fixed">
        <origin xyz="-0.1485688418916027 -5.985445071198181 1.232930729247692" rpy="0.00000000000000027756 0 0"/>
        <parent link="_middle_link_l1"/>
        <child link="middle_link"/>
    </joint>
    <link name="ring_proximal">
        <visual>
            <origin xyz="0.0 0.0 0.0" rpy="0 0 0"/>
            <geometry><mesh filename="package://hand_pack/urdf/linear_meshes/right_ring_proximal.STL" scale="0.00625 0.00625 0.00625"/></geometry>
            <material name=""><color rgba="1.0 1.0 1.0 1.0"/></material>
        </visual>
        <inertial>
            <mass value="0"/>
            <inertia ixx="0.0" ixy="0.0" ixz="0.0" iyy="0.0" iyz="0.0" izz="0.0"/>
        </inertial>
    </link>
        <link name="_ring_proximal_l0">
        <visual>
            <origin xyz="0 0 0" rpy="0 0 0"/>
            <geometry><box size="0 0 0"/></geometry>
            <material name=""><color rgba="0 0 0 0"/></material>
        </visual>
        <inertial>
            <mass value="0"/>
            <inertia ixx="0.0" ixy="0.0" ixz="0.0" iyy="0.0" iyz="0.0" izz="0.0"/>
        </inertial>
    </link>

    <joint name="_ring_proximal_j_input_joint" type="fixed">
        <origin xyz="-1.0126493534897856 5.898556410085637 -0.6806766424213684" rpy="0.00000000000000022204 0 0"/>
        <parent link="base_link"/>
        <axis xyz="0.9904648606189275 0.03489949479855251 -0.1332718467716812"/>
        <child link="_ring_proximal_l0"/>
    </joint>

    
    <link name="_ring_proximal_l1">
        <visual>
            <origin xyz="0 0 -0.00000000000000000000" rpy="0 0 0.00000000000000022204"/>
            <geometry><box size="0 0 0"/></geometry>
            <material name="r1173"><color rgba="0 0 0 0"/></material>
        </visual>
        <inertial>
            <mass value="1"/>
            <inertia ixx="1.0" ixy="0.0" ixz="0.0" iyy="1.0" iyz="0.0" izz="1.0"/>
        </inertial>
    </link>
    <joint name="_ring_proximal_j01" type="revolute">
        <origin xyz="0 0 0.00000000000000000000" rpy="0 0 0"/>
        <parent link="_ring_proximal_l0"/>
        <child link="_ring_proximal_l1"/>
        <axis xyz="0.9904648606189275 0.03489949479855251 -0.1332718467716812"/>
        <mimic joint="Ring" multiplier="1.51604328762193563129" offset="-0.00000000000000022204"/>
        <limit lower="-0.00000000000000022204" upper="1.51604328762193540925" effort="0" velocity="0"/>
    </joint>


    <joint name="_ring_proximal_j_ring_proximal" type="fixed">
        <origin xyz="1.0126493534897856 -5.898556410085637 0.6806766424213684" rpy="0.00000000000000022204 0 0"/>
        <parent link="_ring_proximal_l1"/>
        <child link="ring_proximal"/>
    </joint>
    <link name="ring_distal">
        <visual>
            <origin xyz="0.0 0.0 0.0" rpy="0 0 0"/>
            <geometry><mesh filename="package://hand_pack/urdf/linear_meshes/right_ring_distal.STL" scale="0.00625 0.00625 0.00625"/></geometry>
            <material name=""><color rgba="1.0 1.0 1.0 1.0"/></material>
        </visual>
        <inertial>
            <mass value="0"/>
            <inertia ixx="0.0" ixy="0.0" ixz="0.0" iyy="0.0" iyz="0.0" izz="0.0"/>
        </inertial>
    </link>
        <link name="_ring_distal_l0">
        <visual>
            <origin xyz="0 0 0" rpy="0 0 0"/>
            <geometry><box size="0 0 0"/></geometry>
            <material name=""><color rgba="0 0 0 0"/></material>
        </visual>
        <inertial>
            <mass value="0"/>
            <inertia ixx="0.0" ixy="0.0" ixz="0.0" iyy="0.0" iyz="0.0" izz="0.0"/>
        </inertial>
    </link>

    <joint name="_ring_distal_j_input_joint" type="fixed">
        <origin xyz="-1.1013923470306217 7.892249906746441 -0.8122495227348061" rpy="0.00000000000000033307 0 0"/>
        <parent link="ring_proximal"/>
        <axis xyz="0.9904648613223425 0.03489949532287934 -0.1332718414066574"/>
        <child link="_ring_distal_l0"/>
    </joint>

    
    <link name="_ring_distal_l1">
        <visual>
            <origin xyz="0 0 -0.00000000000000000000" rpy="0 0 0.00000000000000033307"/>
            <geometry><box size="0 0 0"/></geometry>
            <material name="r6804"><color rgba="0 0 0 0"/></material>
        </visual>
        <inertial>
            <mass value="1"/>
            <inertia ixx="1.0" ixy="0.0" ixz="0.0" iyy="1.0" iyz="0.0" izz="1.0"/>
        </inertial>
    </link>
    <joint name="_ring_distal_j01" type="revolute">
        <origin xyz="0 0 0.00000000000000000000" rpy="0 0 0"/>
        <parent link="_ring_distal_l0"/>
        <child link="_ring_distal_l1"/>
        <axis xyz="0.9904648613223425 0.03489949532287934 -0.1332718414066574"/>
        <mimic joint="Ring" multiplier="1.34878317629562793911" offset="-0.00000000000000033307"/>
        <limit lower="-0.00000000000000033307" upper="1.34878317629562749502" effort="0" velocity="0"/>
    </joint>


    <joint name="_ring_distal_j_ring_distal" type="fixed">
        <origin xyz="1.1013923470306217 -7.892249906746441 0.8122495227348061" rpy="0.00000000000000033307 0 0"/>
        <parent link="_ring_distal_l1"/>
        <child link="ring_distal"/>
    </joint>
    <link name="ring_knuckle">
        <visual>
            <origin xyz="0.0 0.0 0.0" rpy="0 0 0"/>
            <geometry><mesh filename="package://hand_pack/urdf/linear_meshes/right_ring_knuckle.STL" scale="0.00625 0.00625 0.00625"/></geometry>
            <material name=""><color rgba="0.1 0.1 0.7 1.0"/></material>
        </visual>
        <inertial>
            <mass value="0"/>
            <inertia ixx="0.0" ixy="0.0" ixz="0.0" iyy="0.0" iyz="0.0" izz="0.0"/>
        </inertial>
    </link>
        <link name="_ring_knuckle_l0">
        <visual>
            <origin xyz="0 0 0" rpy="0 0 0"/>
            <geometry><box size="0 0 0"/></geometry>
            <material name=""><color rgba="0 0 0 0"/></material>
        </visual>
        <inertial>
            <mass value="0"/>
            <inertia ixx="0.0" ixy="0.0" ixz="0.0" iyy="0.0" iyz="0.0" izz="0.0"/>
        </inertial>
    </link>

    <joint name="_ring_knuckle_j_input_joint" type="fixed">
        <origin xyz="-1.076287437386446 5.513612382054195 -1.2467379346586647" rpy="0.00000000000000033307 0 0"/>
        <parent link="ring_proximal"/>
        <axis xyz="-0.9904648595323436 -0.034899502408724456 0.13327185285422538"/>
        <child link="_ring_knuckle_l0"/>
    </joint>

    
    <link name="_ring_knuckle_l1">
        <visual>
            <origin xyz="0 0 -0.00000000000000000000" rpy="0 0 0.00000000000000033307"/>
            <geometry><box size="0 0 0"/></geometry>
            <material name="r88452"><color rgba="0 0 0 0"/></material>
        </visual>
        <inertial>
            <mass value="1"/>
            <inertia ixx="1.0" ixy="0.0" ixz="0.0" iyy="1.0" iyz="0.0" izz="1.0"/>
        </inertial>
    </link>
    <joint name="_ring_knuckle_j01" type="revolute">
        <origin xyz="0 0 0.00000000000000000000" rpy="0 0 0"/>
        <parent link="_ring_knuckle_l0"/>
        <child link="_ring_knuckle_l1"/>
        <axis xyz="-0.9904648595323436 -0.034899502408724456 0.13327185285422538"/>
        <mimic joint="Ring" multiplier="1.25181510906761461754" offset="-0.00000000000000033307"/>
        <limit lower="-0.00000000000000033307" upper="1.25181510906761417345" effort="0" velocity="0"/>
    </joint>


    <joint name="_ring_knuckle_j_ring_knuckle" type="fixed">
        <origin xyz="1.076287437386446 -5.513612382054195 1.2467379346586647" rpy="0.00000000000000033307 0 0"/>
        <parent link="_ring_knuckle_l1"/>
        <child link="ring_knuckle"/>
    </joint>
    <link name="ring_follower">
        <visual>
            <origin xyz="0.0 0.0 0.0" rpy="0 0 0"/>
            <geometry><mesh filename="package://hand_pack/urdf/linear_meshes/right_ring_follower.STL" scale="0.00625 0.00625 0.00625"/></geometry>
            <material name=""><color rgba="0.1 0.7 0.1 1.0"/></material>
        </visual>
        <inertial>
            <mass value="0"/>
            <inertia ixx="0.0" ixy="0.0" ixz="0.0" iyy="0.0" iyz="0.0" izz="0.0"/>
        </inertial>
    </link>
        <link name="_ring_follower_l0">
        <visual>
            <origin xyz="0 0 0" rpy="0 0 0"/>
            <geometry><box size="0 0 0"/></geometry>
            <material name=""><color rgba="0 0 0 0"/></material>
        </visual>
        <inertial>
            <mass value="0"/>
            <inertia ixx="0.0" ixy="0.0" ixz="0.0" iyy="0.0" iyz="0.0" izz="0.0"/>
        </inertial>
    </link>

    <joint name="_ring_follower_j_input_joint" type="fixed">
        <origin xyz="-1.0102042572973156 4.387462722072228 -1.078451840885562" rpy="0.00000000000000005551 0 0"/>
        <parent link="ring_knuckle"/>
        <axis xyz="-0.99046478428178 -0.03489870585914611 0.13327262069533985"/>
        <child link="_ring_follower_l0"/>
    </joint>

    
    <link name="_ring_follower_l1">
        <visual>
            <origin xyz="0 0 -0.00000000000000000000" rpy="0 0 0.00000000000000005551"/>
            <geometry><box size="0 0 0"/></geometry>
            <material name="r64299"><color rgba="0 0 0 0"/></material>
        </visual>
        <inertial>
            <mass value="1"/>
            <inertia ixx="1.0" ixy="0.0" ixz="0.0" iyy="1.0" iyz="0.0" izz="1.0"/>
        </inertial>
    </link>
    <joint name="_ring_follower_j01" type="revolute">
        <origin xyz="0 0 0.00000000000000000000" rpy="0 0 0"/>
        <parent link="_ring_follower_l0"/>
        <child link="_ring_follower_l1"/>
        <axis xyz="-0.99046478428178 -0.03489870585914611 0.13327262069533985"/>
        <mimic joint="Ring" multiplier="0.26423062522385398765" offset="-0.00000000000000005551"/>
        <limit lower="-0.00000000000000005551" upper="0.26423062522385393214" effort="0" velocity="0"/>
    </joint>


    <joint name="_ring_follower_j_ring_follower" type="fixed">
        <origin xyz="1.0102042572973156 -4.387462722072228 1.078451840885562" rpy="0.00000000000000005551 0 0"/>
        <parent link="_ring_follower_l1"/>
        <child link="ring_follower"/>
    </joint>
    <link name="ring_link">
        <visual>
            <origin xyz="0.0 0.0 0.0" rpy="0 0 0"/>
            <geometry><mesh filename="package://hand_pack/urdf/linear_meshes/right_ring_link.STL" scale="0.00625 0.00625 0.00625"/></geometry>
            <material name=""><color rgba="0.7 0.1 0.1 1.0"/></material>
        </visual>
        <inertial>
            <mass value="0"/>
            <inertia ixx="0.0" ixy="0.0" ixz="0.0" iyy="0.0" iyz="0.0" izz="0.0"/>
        </inertial>
    </link>
        <link name="_ring_link_l0">
        <visual>
            <origin xyz="0 0 0" rpy="0 0 0"/>
            <geometry><box size="0 0 0"/></geometry>
            <material name=""><color rgba="0 0 0 0"/></material>
        </visual>
        <inertial>
            <mass value="0"/>
            <inertia ixx="0.0" ixy="0.0" ixz="0.0" iyy="0.0" iyz="0.0" izz="0.0"/>
        </inertial>
    </link>

    <joint name="_ring_link_j_input_joint" type="fixed">
        <origin xyz="-1.078572100240299 5.984454531834645 -0.9417015242120699" rpy="0.00000000000000027756 0 0"/>
        <parent link="base_link"/>
        <axis xyz="0.9904648586488499 0.03489949747682052 -0.1332718607117766"/>
        <child link="_ring_link_l0"/>
    </joint>

    
    <link name="_ring_link_l1">
        <visual>
            <origin xyz="0 0 -0.00000000000000000000" rpy="0 0 0.00000000000000027756"/>
            <geometry><box size="0 0 0"/></geometry>
            <material name="r3823"><color rgba="0 0 0 0"/></material>
        </visual>
        <inertial>
            <mass value="1"/>
            <inertia ixx="1.0" ixy="0.0" ixz="0.0" iyy="1.0" iyz="0.0" izz="1.0"/>
        </inertial>
    </link>
    <joint name="_ring_link_j01" type="revolute">
        <origin xyz="0 0 0.00000000000000000000" rpy="0 0 0"/>
        <parent link="_ring_link_l0"/>
        <child link="_ring_link_l1"/>
        <axis xyz="0.9904648586488499 0.03489949747682052 -0.1332718607117766"/>
        <mimic joint="Ring" multiplier="1.34878364034376629910" offset="-0.00000000000000027756"/>
        <limit lower="-0.00000000000000027756" upper="1.34878364034376607705" effort="0" velocity="0"/>
    </joint>


    <joint name="_ring_link_j_ring_link" type="fixed">
        <origin xyz="1.078572100240299 -5.984454531834645 0.9417015242120699" rpy="0.00000000000000027756 0 0"/>
        <parent link="_ring_link_l1"/>
        <child link="ring_link"/>
    </joint>
    <link name="little_proximal">
        <visual>
            <origin xyz="0.0 0.0 0.0" rpy="0 0 0"/>
            <geometry><mesh filename="package://hand_pack/urdf/linear_meshes/right_little_proximal.STL" scale="0.00625 0.00625 0.00625"/></geometry>
            <material name=""><color rgba="1.0 1.0 1.0 1.0"/></material>
        </visual>
        <inertial>
            <mass value="0"/>
            <inertia ixx="0.0" ixy="0.0" ixz="0.0" iyy="0.0" iyz="0.0" izz="0.0"/>
        </inertial>
    </link>
        <link name="_little_proximal_l0">
        <visual>
            <origin xyz="0 0 0" rpy="0 0 0"/>
            <geometry><box size="0 0 0"/></geometry>
            <material name=""><color rgba="0 0 0 0"/></material>
        </visual>
        <inertial>
            <mass value="0"/>
            <inertia ixx="0.0" ixy="0.0" ixz="0.0" iyy="0.0" iyz="0.0" izz="0.0"/>
        </inertial>
    </link>

    <joint name="_little_proximal_j_input_joint" type="fixed">
        <origin xyz="-2.057319724224253 5.270538765035208 -0.24661281778517774" rpy="0.00000000000000022204 0 0"/>
        <parent link="base_link"/>
        <axis xyz="0.9786112745748743 0.10442184811921981 -0.1772457359439341"/>
        <child link="_little_proximal_l0"/>
    </joint>

    
    <link name="_little_proximal_l1">
        <visual>
            <origin xyz="0 0 -0.00000000000000000000" rpy="0 0 0.00000000000000022204"/>
            <geometry><box size="0 0 0"/></geometry>
            <material name="r3524"><color rgba="0 0 0 0"/></material>
        </visual>
        <inertial>
            <mass value="1"/>
            <inertia ixx="1.0" ixy="0.0" ixz="0.0" iyy="1.0" iyz="0.0" izz="1.0"/>
        </inertial>
    </link>
    <joint name="_little_proximal_j01" type="revolute">
        <origin xyz="0 0 0.00000000000000000000" rpy="0 0 0"/>
        <parent link="_little_proximal_l0"/>
        <child link="_little_proximal_l1"/>
        <axis xyz="0.9786112745748743 0.10442184811921981 -0.1772457359439341"/>
        <mimic joint="Little" multiplier="1.51604353824540605267" offset="-0.00000000000000022204"/>
        <limit lower="-0.00000000000000022204" upper="1.51604353824540583062" effort="0" velocity="0"/>
    </joint>


    <joint name="_little_proximal_j_little_proximal" type="fixed">
        <origin xyz="2.057319724224253 -5.270538765035208 0.24661281778517774" rpy="0.00000000000000022204 0 0"/>
        <parent link="_little_proximal_l1"/>
        <child link="little_proximal"/>
    </joint>
    <link name="little_distal">
        <visual>
            <origin xyz="0.0 0.0 0.0" rpy="0 0 0"/>
            <geometry><mesh filename="package://hand_pack/urdf/linear_meshes/right_little_distal.STL" scale="0.00625 0.00625 0.00625"/></geometry>
            <material name=""><color rgba="1.0 1.0 1.0 1.0"/></material>
        </visual>
        <inertial>
            <mass value="0"/>
            <inertia ixx="0.0" ixy="0.0" ixz="0.0" iyy="0.0" iyz="0.0" izz="0.0"/>
        </inertial>
    </link>
        <link name="_little_distal_l0">
        <visual>
            <origin xyz="0 0 0" rpy="0 0 0"/>
            <geometry><box size="0 0 0"/></geometry>
            <material name=""><color rgba="0 0 0 0"/></material>
        </visual>
        <inertial>
            <mass value="0"/>
            <inertia ixx="0.0" ixy="0.0" ixz="0.0" iyy="0.0" iyz="0.0" izz="0.0"/>
        </inertial>
    </link>

    <joint name="_little_distal_j_input_joint" type="fixed">
        <origin xyz="-2.2520633889913793 6.742798507484316 -0.4576241639059808" rpy="-0.00000001490116086078 0 0"/>
        <parent link="little_proximal"/>
        <axis xyz="0.9786112688356977 0.1044218162920877 -0.177245786381644"/>
        <child link="_little_distal_l0"/>
    </joint>

    
    <link name="_little_distal_l1">
        <visual>
            <origin xyz="0 0 -0.00000000000000000000" rpy="0 0 -0.00000001490116086078"/>
            <geometry><box size="0 0 0"/></geometry>
            <material name="r81183"><color rgba="0 0 0 0"/></material>
        </visual>
        <inertial>
            <mass value="1"/>
            <inertia ixx="1.0" ixy="0.0" ixz="0.0" iyy="1.0" iyz="0.0" izz="1.0"/>
        </inertial>
    </link>
    <joint name="_little_distal_j01" type="revolute">
        <origin xyz="0 0 0.00000000000000000000" rpy="0 0 0"/>
        <parent link="_little_distal_l0"/>
        <child link="_little_distal_l1"/>
        <axis xyz="0.9786112688356977 0.1044218162920877 -0.177245786381644"/>
        <mimic joint="Little" multiplier="1.31664152870820272412" offset="0.00000001490116086078"/>
        <limit lower="0.00000001490116086078" upper="1.31664154360936347388" effort="0" velocity="0"/>
    </joint>


    <joint name="_little_distal_j_little_distal" type="fixed">
        <origin xyz="2.2520633889913793 -6.742798507484316 0.4576241639059808" rpy="-0.00000001490116086078 0 0"/>
        <parent link="_little_distal_l1"/>
        <child link="little_distal"/>
    </joint>
    <link name="little_knuckle">
        <visual>
            <origin xyz="0.0 0.0 0.0" rpy="0 0 0"/>
            <geometry><mesh filename="package://hand_pack/urdf/linear_meshes/right_little_knuckle.STL" scale="0.00625 0.00625 0.00625"/></geometry>
            <material name=""><color rgba="0.1 0.1 0.7 1.0"/></material>
        </visual>
        <inertial>
            <mass value="0"/>
            <inertia ixx="0.0" ixy="0.0" ixz="0.0" iyy="0.0" iyz="0.0" izz="0.0"/>
        </inertial>
    </link>
        <link name="_little_knuckle_l0">
        <visual>
            <origin xyz="0 0 0" rpy="0 0 0"/>
            <geometry><box size="0 0 0"/></geometry>
            <material name=""><color rgba="0 0 0 0"/></material>
        </visual>
        <inertial>
            <mass value="0"/>
            <inertia ixx="0.0" ixy="0.0" ixz="0.0" iyy="0.0" iyz="0.0" izz="0.0"/>
        </inertial>
    </link>

    <joint name="_little_knuckle_j_input_joint" type="fixed">
        <origin xyz="-2.120049770560409 4.884666340842449 -0.8121441650432416" rpy="-0.00000001490116097180 0 0"/>
        <parent link="little_proximal"/>
        <axis xyz="-0.9786112715268198 -0.10442182673933997 0.1772457653685416"/>
        <child link="_little_knuckle_l0"/>
    </joint>

    
    <link name="_little_knuckle_l1">
        <visual>
            <origin xyz="0 0 -0.00000000000000000000" rpy="0 0 -0.00000001490116097180"/>
            <geometry><box size="0 0 0"/></geometry>
            <material name="r35148"><color rgba="0 0 0 0"/></material>
        </visual>
        <inertial>
            <mass value="1"/>
            <inertia ixx="1.0" ixy="0.0" ixz="0.0" iyy="1.0" iyz="0.0" izz="1.0"/>
        </inertial>
    </link>
    <joint name="_little_knuckle_j01" type="revolute">
        <origin xyz="0 0 0.00000000000000000000" rpy="0 0 0"/>
        <parent link="_little_knuckle_l0"/>
        <child link="_little_knuckle_l1"/>
        <axis xyz="-0.9786112715268198 -0.10442182673933997 0.1772457653685416"/>
        <mimic joint="Little" multiplier="1.25181529061989249563" offset="0.00000001490116097180"/>
        <limit lower="0.00000001490116097180" upper="1.25181530552105346743" effort="0" velocity="0"/>
    </joint>


    <joint name="_little_knuckle_j_little_knuckle" type="fixed">
        <origin xyz="2.120049770560409 -4.884666340842449 0.8121441650432416" rpy="-0.00000001490116097180 0 0"/>
        <parent link="_little_knuckle_l1"/>
        <child link="little_knuckle"/>
    </joint>
    <link name="little_follower">
        <visual>
            <origin xyz="0.0 0.0 0.0" rpy="0 0 0"/>
            <geometry><mesh filename="package://hand_pack/urdf/linear_meshes/right_little_follower.STL" scale="0.00625 0.00625 0.00625"/></geometry>
            <material name=""><color rgba="0.1 0.7 0.1 1.0"/></material>
        </visual>
        <inertial>
            <mass value="0"/>
            <inertia ixx="0.0" ixy="0.0" ixz="0.0" iyy="0.0" iyz="0.0" izz="0.0"/>
        </inertial>
    </link>
        <link name="_little_follower_l0">
        <visual>
            <origin xyz="0 0 0" rpy="0 0 0"/>
            <geometry><box size="0 0 0"/></geometry>
            <material name=""><color rgba="0 0 0 0"/></material>
        </visual>
        <inertial>
            <mass value="0"/>
            <inertia ixx="0.0" ixy="0.0" ixz="0.0" iyy="0.0" iyz="0.0" izz="0.0"/>
        </inertial>
    </link>

    <joint name="_little_follower_j_input_joint" type="fixed">
        <origin xyz="-1.9684499144753422 3.76508855610884 -0.6557183186033343" rpy="0.00000000000000005551 0 0"/>
        <parent link="little_knuckle"/>
        <axis xyz="-0.9786113234476818 -0.10442071454400961 0.1772461339327191"/>
        <child link="_little_follower_l0"/>
    </joint>

    
    <link name="_little_follower_l1">
        <visual>
            <origin xyz="0 0 -0.00000000000000000000" rpy="0 0 0.00000000000000005551"/>
            <geometry><box size="0 0 0"/></geometry>
            <material name="r76983"><color rgba="0 0 0 0"/></material>
        </visual>
        <inertial>
            <mass value="1"/>
            <inertia ixx="1.0" ixy="0.0" ixz="0.0" iyy="1.0" iyz="0.0" izz="1.0"/>
        </inertial>
    </link>
    <joint name="_little_follower_j01" type="revolute">
        <origin xyz="0 0 0.00000000000000000000" rpy="0 0 0"/>
        <parent link="_little_follower_l0"/>
        <child link="_little_follower_l1"/>
        <axis xyz="-0.9786113234476818 -0.10442071454400961 0.1772461339327191"/>
        <mimic joint="Little" multiplier="0.26422625333146315674" offset="-0.00000000000000005551"/>
        <limit lower="-0.00000000000000005551" upper="0.26422625333146310123" effort="0" velocity="0"/>
    </joint>


    <joint name="_little_follower_j_little_follower" type="fixed">
        <origin xyz="1.9684499144753422 -3.76508855610884 0.6557183186033343" rpy="0.00000000000000005551 0 0"/>
        <parent link="_little_follower_l1"/>
        <child link="little_follower"/>
    </joint>
    <link name="little_link">
        <visual>
            <origin xyz="0.0 0.0 0.0" rpy="0 0 0"/>
            <geometry><mesh filename="package://hand_pack/urdf/linear_meshes/right_little_link.STL" scale="0.00625 0.00625 0.00625"/></geometry>
            <material name=""><color rgba="0.7 0.1 0.1 1.0"/></material>
        </visual>
        <inertial>
            <mass value="0"/>
            <inertia ixx="0.0" ixy="0.0" ixz="0.0" iyy="0.0" iyz="0.0" izz="0.0"/>
        </inertial>
    </link>
        <link name="_little_link_l0">
        <visual>
            <origin xyz="0 0 0" rpy="0 0 0"/>
            <geometry><box size="0 0 0"/></geometry>
            <material name=""><color rgba="0 0 0 0"/></material>
        </visual>
        <inertial>
            <mass value="0"/>
            <inertia ixx="0.0" ixy="0.0" ixz="0.0" iyy="0.0" iyz="0.0" izz="0.0"/>
        </inertial>
    </link>

    <joint name="_little_link_j_input_joint" type="fixed">
        <origin xyz="-2.1349977455383624 5.35345561586718 -0.5047965951115416" rpy="0.00000000000000022204 0 0"/>
        <parent link="base_link"/>
        <axis xyz="0.9786112669174357 0.10442180910601918 -0.17724580120634031"/>
        <child link="_little_link_l0"/>
    </joint>

    
    <link name="_little_link_l1">
        <visual>
            <origin xyz="0 0 -0.00000000000000000000" rpy="0 0 0.00000000000000022204"/>
            <geometry><box size="0 0 0"/></geometry>
            <material name="r45524"><color rgba="0 0 0 0"/></material>
        </visual>
        <inertial>
            <mass value="1"/>
            <inertia ixx="1.0" ixy="0.0" ixz="0.0" iyy="1.0" iyz="0.0" izz="1.0"/>
        </inertial>
    </link>
    <joint name="_little_link_j01" type="revolute">
        <origin xyz="0 0 0.00000000000000000000" rpy="0 0 0"/>
        <parent link="_little_link_l0"/>
        <child link="_little_link_l1"/>
        <axis xyz="0.9786112669174357 0.10442180910601918 -0.17724580120634031"/>
        <mimic joint="Little" multiplier="1.31664159359669974414" offset="-0.00000000000000022204"/>
        <limit lower="-0.00000000000000022204" upper="1.31664159359669952210" effort="0" velocity="0"/>
    </joint>


    <joint name="_little_link_j_little_link" type="fixed">
        <origin xyz="2.1349977455383624 -5.35345561586718 0.5047965951115416" rpy="0.00000000000000022204 0 0"/>
        <parent link="_little_link_l1"/>
        <child link="little_link"/>
    </joint>
</robot>
